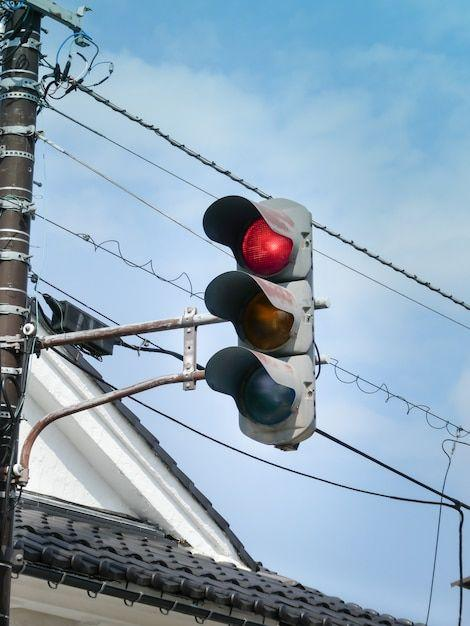red: (192, 177, 338, 460)
